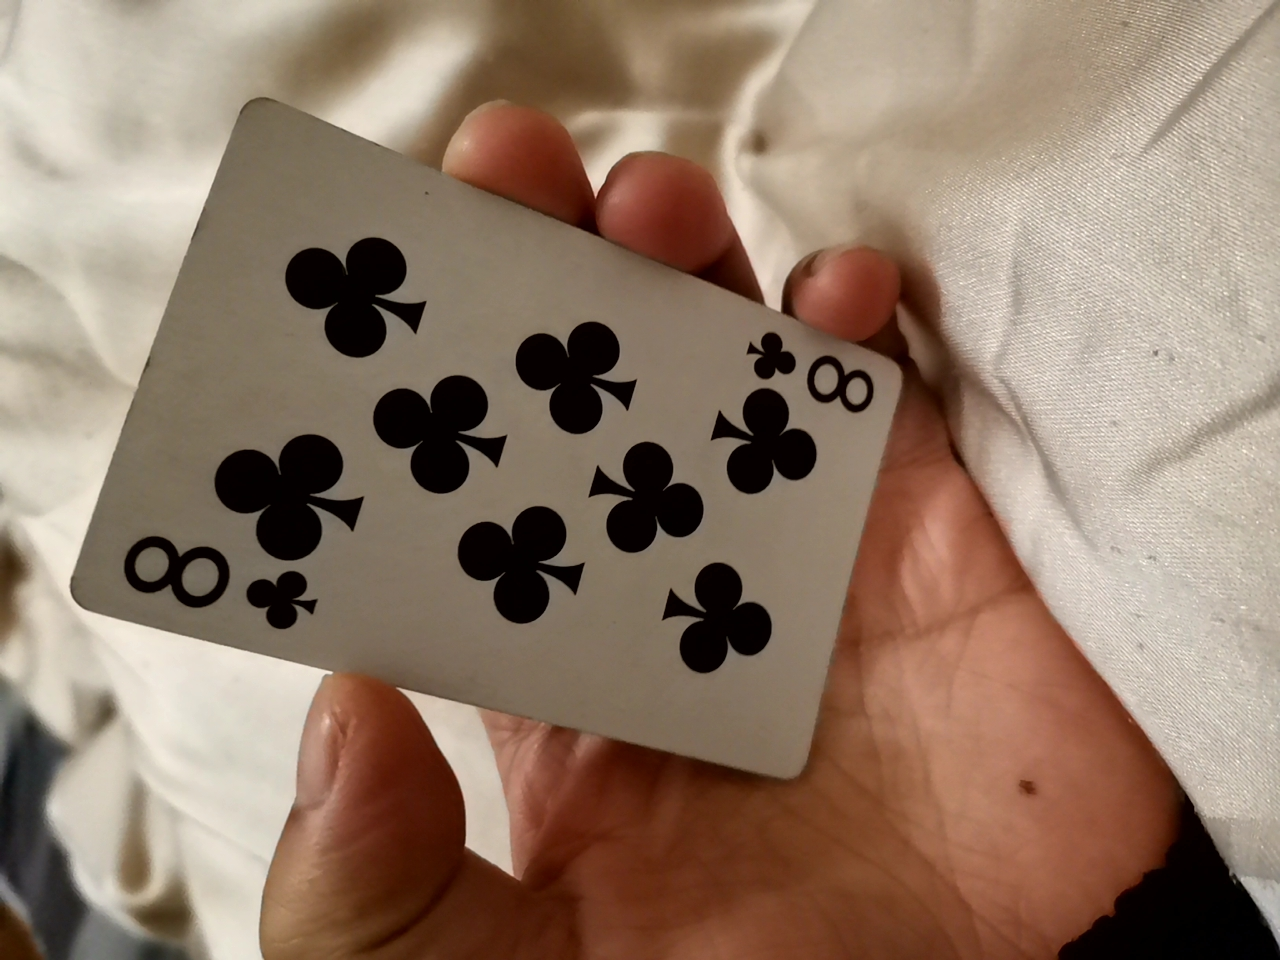mh 8: (21, 105, 927, 845)
